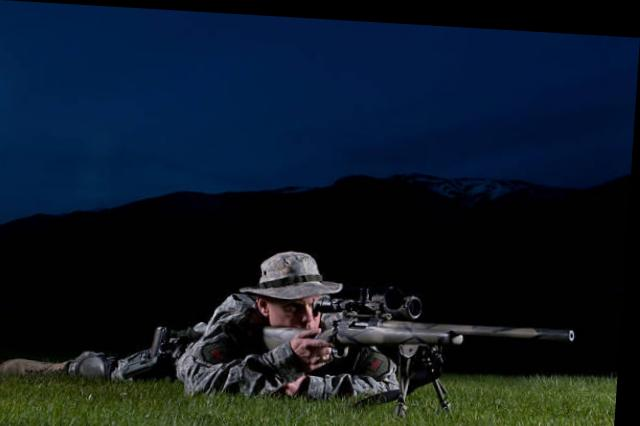other: (167, 241, 407, 396)
